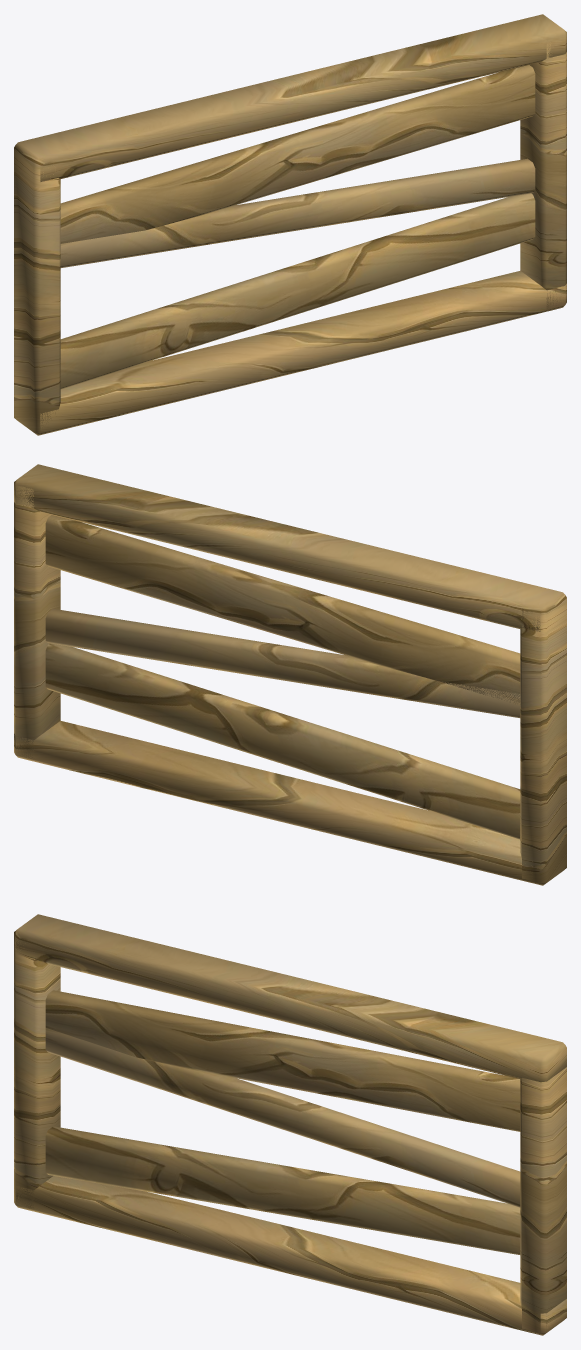
Rendered from Wood.fbx.
3 views of the same model, one above another, from view 1: azimuth 30°, elevation 25°; view 2: azimuth 150°, elevation 25°; view 3: azimuth 330°, elevation 25° (orthographic).
Parts seen in each view (by area): view 1: Wood, Wood.003, Wood.001, Wood.002; view 2: Wood, Wood.003, Wood.001, Wood.002; view 3: Wood, Wood.003, Wood.001, Wood.002.
Boxes of the visible parts, x1,y1,x2,y2 form: Wood: (14,14,566,435); Wood.003: (60,65,535,243); Wood.001: (60,193,535,389); Wood.002: (60,158,535,267); Wood: (14,464,566,885); Wood.003: (45,515,520,703); Wood.001: (45,643,520,839); Wood.002: (45,608,520,717); Wood: (14,914,566,1335); Wood.003: (45,990,520,1131); Wood.001: (45,1126,520,1254); Wood.002: (45,1028,520,1207).
Bounding box in the file's own units: 2 × 1 × 0.16.
Materials: 1 (1 with a texture image).
